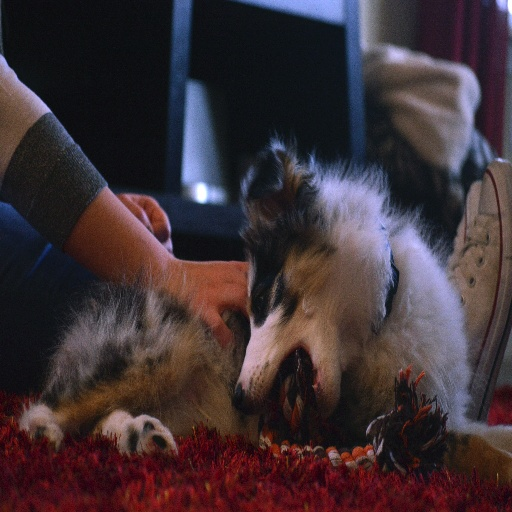hand: (173, 259, 249, 350), (114, 192, 173, 253)
